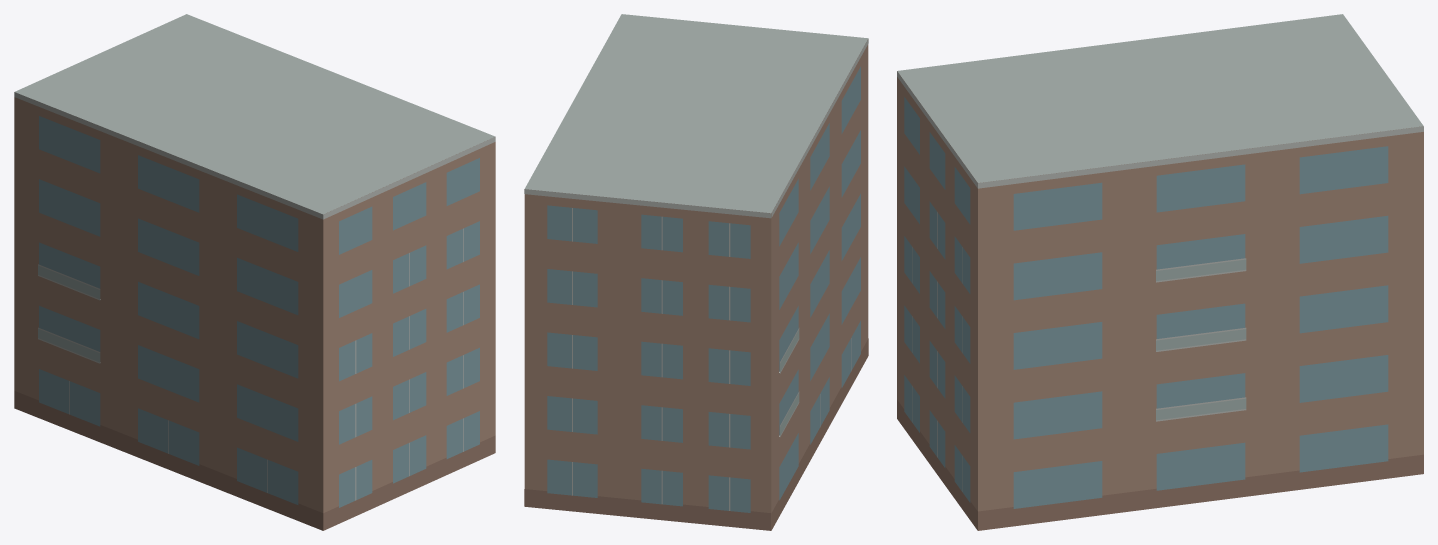
The model's file is survey-upis-32611817.glb.
3 renders of one model, left to right at view 1: azimuth 30°, elevation 25°; view 2: azimuth 150°, elevation 25°; view 3: azimuth 270°, elevation 25°, orthographic. The views are drawn at different scales.
Parts seen in each view (by area): view 1: survey-upis-32611817.tmp; view 2: survey-upis-32611817.tmp; view 3: survey-upis-32611817.tmp.
Boxes of the visible parts, x1,y1,x2,y2 form: survey-upis-32611817.tmp: [14, 14, 495, 530]; survey-upis-32611817.tmp: [524, 14, 868, 530]; survey-upis-32611817.tmp: [897, 14, 1423, 530].
Size of the model in its own units: 15.86 by 15.2 by 20.87.
